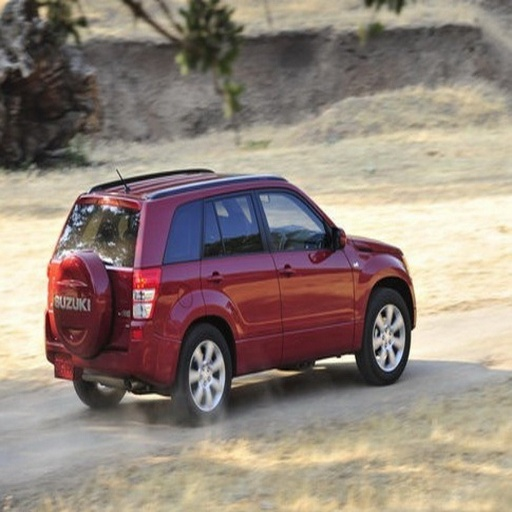trunk: (55, 245, 189, 377)
